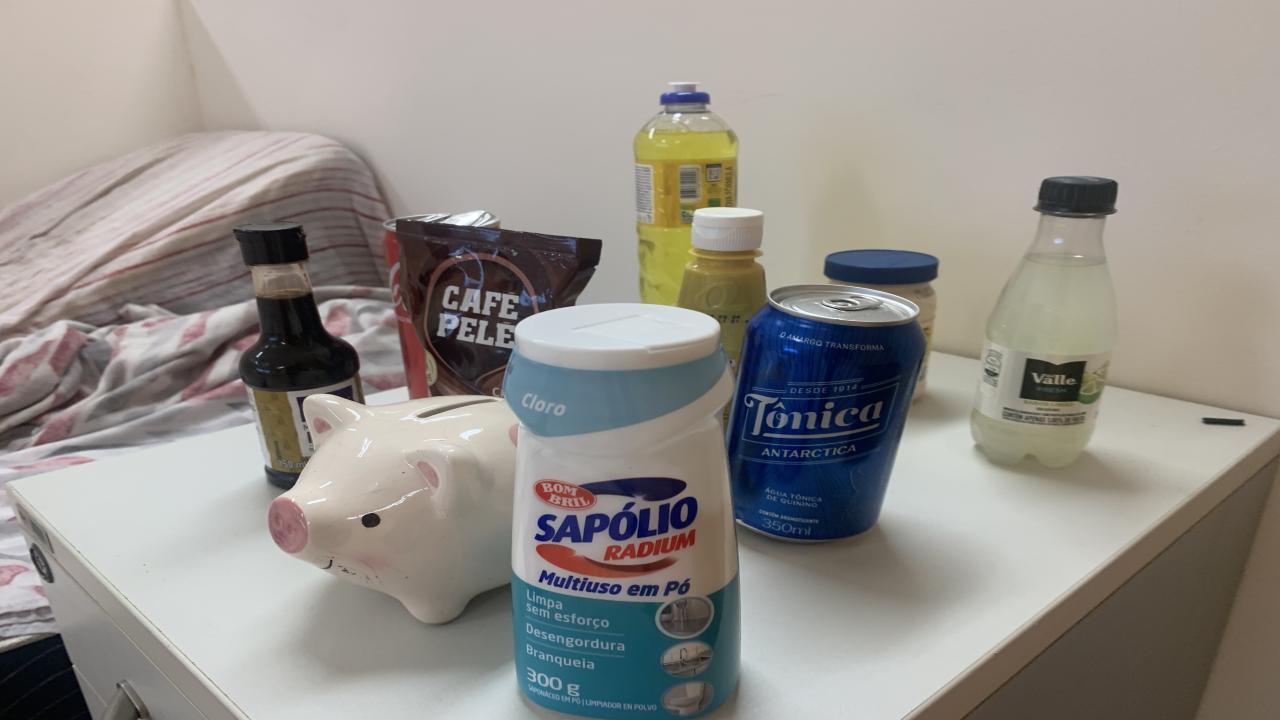Cleaner-Cleanup_Items: (502, 304, 740, 718)
Coffee-Pantry_Items: (395, 219, 602, 396)
Coke-Drinks: (382, 210, 500, 399)
Detergent-Cleanup_Items: (632, 82, 738, 304)
English_Sauce-Pantry_Items: (235, 221, 362, 488)
Mayonnaise-Pantry_Items: (822, 249, 938, 399)
Mustard-Pantry_Items: (678, 206, 768, 369)
Pig_Safe-Miscellaneous: (270, 394, 518, 622)
Soda-Drinks: (970, 176, 1118, 467)
Tonic-Drinks: (728, 285, 925, 542)
